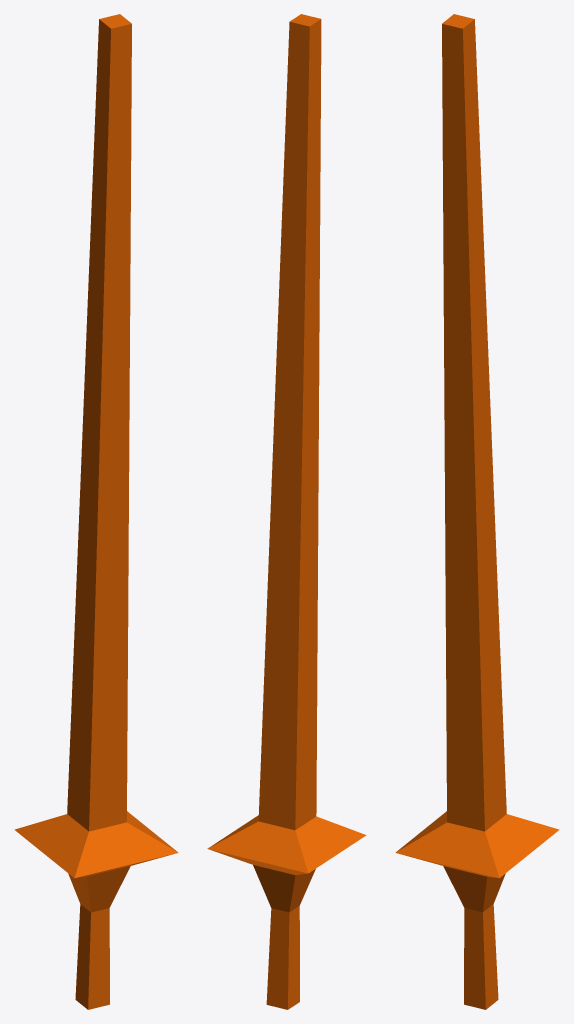
The model's file is swordpance.fbx.
3 renders of one model, left to right at view 1: azimuth 30°, elevation 25°; view 2: azimuth 150°, elevation 25°; view 3: azimuth 330°, elevation 25°, orthographic. The views are drawn at different scales.
Parts seen in each view (by area): view 1: SwordPance; view 2: SwordPance; view 3: SwordPance.
Boxes of the visible parts, left/top/right/bottom form: SwordPance: left=14, top=14, right=178, bottom=1009; SwordPance: left=207, top=14, right=366, bottom=1009; SwordPance: left=395, top=14, right=559, bottom=1009.
Size of the model in its own units: 0.1497 by 1.37 by 0.1496.
